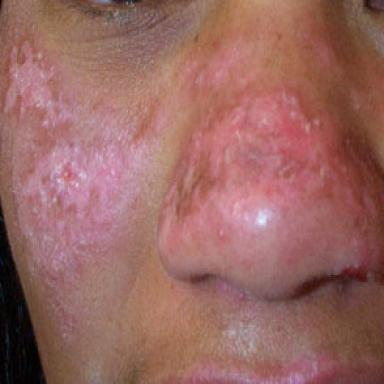Lupus-Erythematosus-Chronicus-Discoides: (158, 88, 384, 297), (1, 41, 131, 278), (188, 38, 274, 92)
